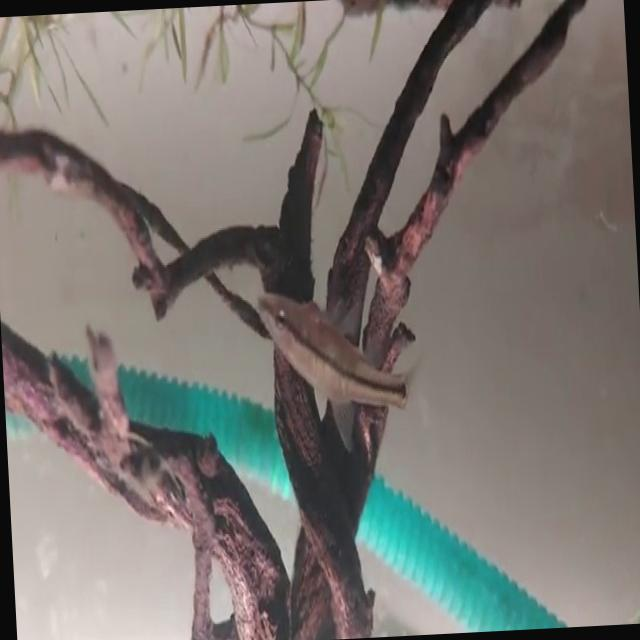Cakil Baligi: (258, 276, 430, 454)
